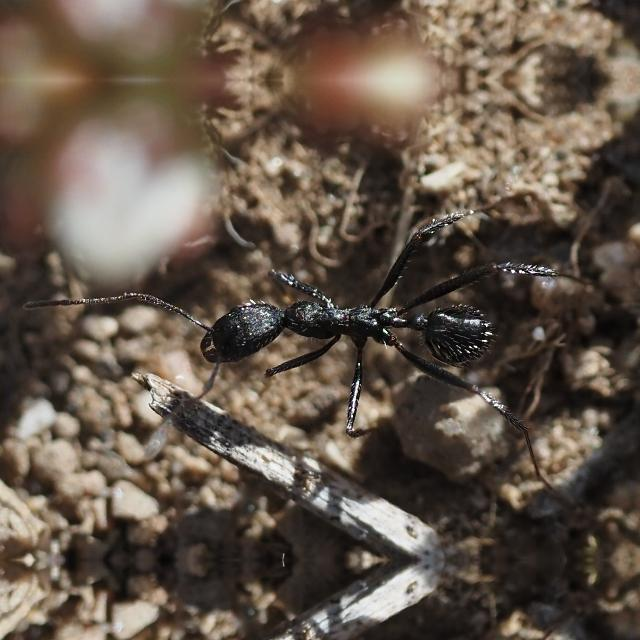Apheanogaster: (170, 254, 528, 406)
